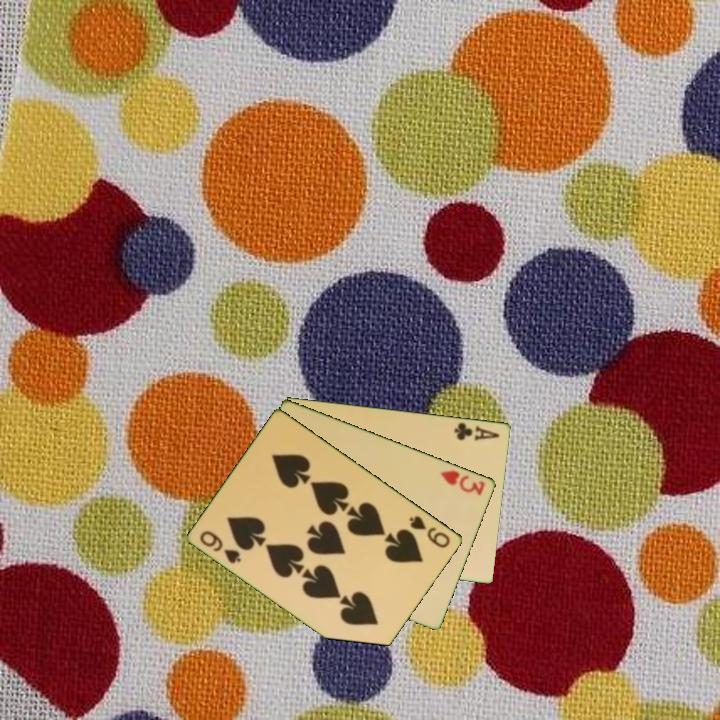3h: (437, 466, 488, 498)
9s: (197, 527, 244, 567), (406, 512, 453, 551)
Ac: (451, 418, 502, 443)
